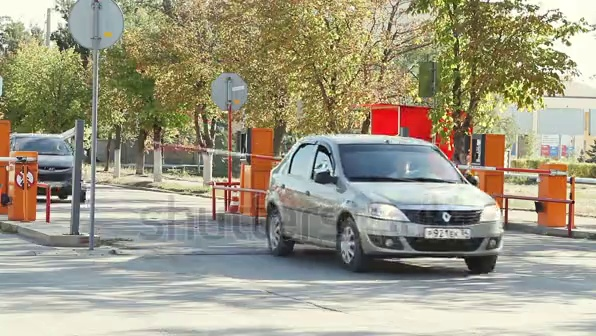licenseplate: (424, 225, 481, 241)
